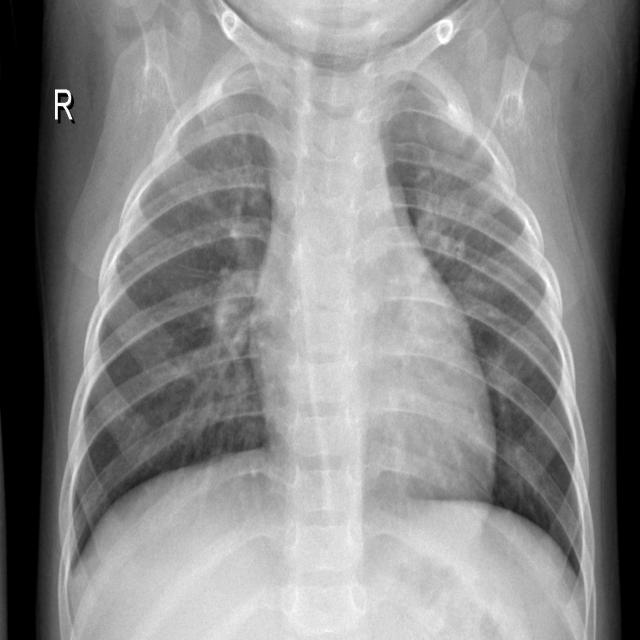viral_pneumonia: (31, 1, 640, 639)
